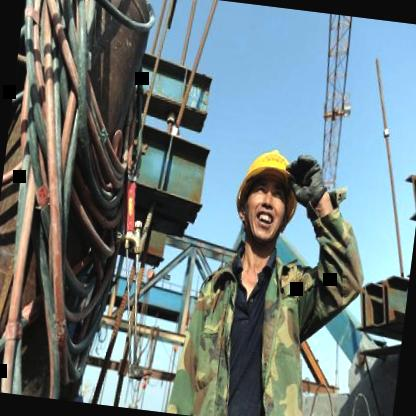helmet: (223, 134, 302, 260)
